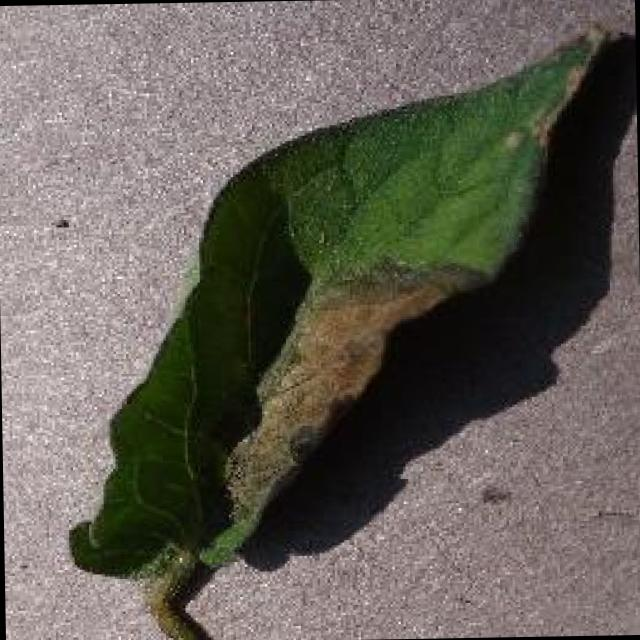Tomato_Late_Blight: (230, 264, 460, 502)
